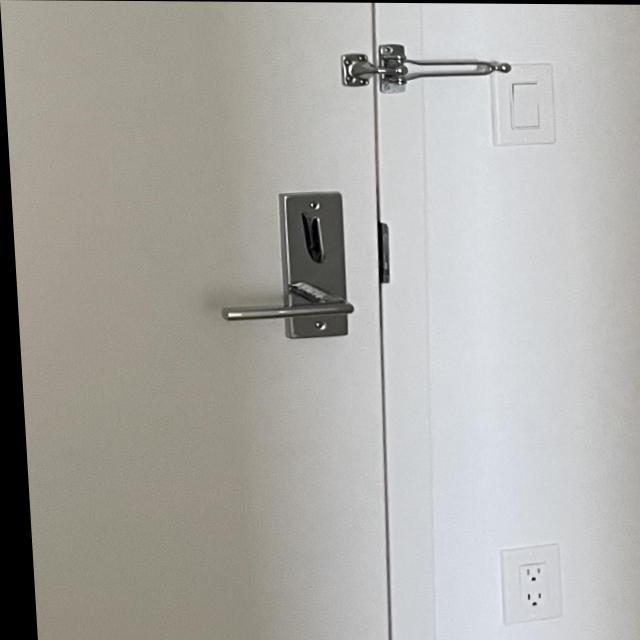door_handle: (207, 274, 370, 340)
